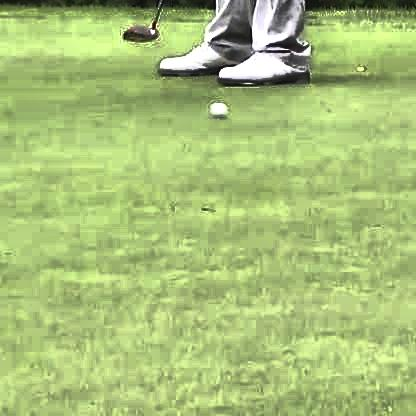golfball: (207, 98, 227, 116)
